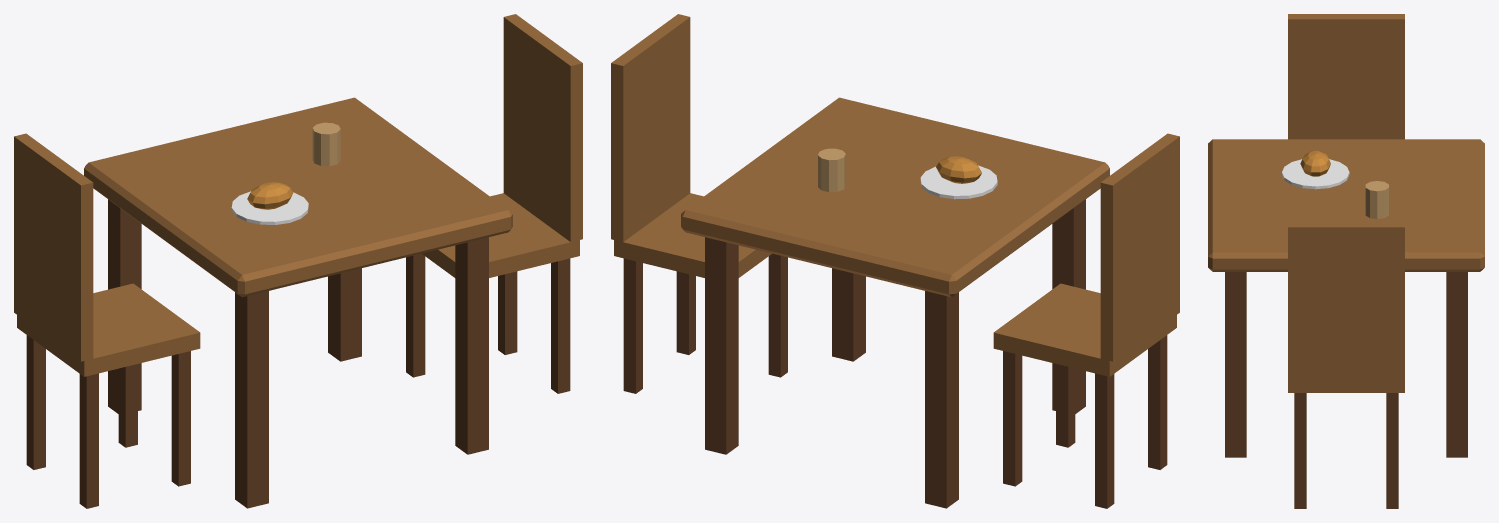
File: furn_table.glb
The picture shows the model from 3 angles, left to right: view 1: azimuth 30°, elevation 25°; view 2: azimuth 150°, elevation 25°; view 3: azimuth 270°, elevation 25°; orthographic projection. The views are drawn at different scales.
Visible parts, largest first — view 1: top, back, back.001, seat.001, leg.003, leg.001, seat, leg.002, leg, cleg.007, cleg.002, cleg.006 (+7 smaller); view 2: top, back, back.001, seat.001, leg.002, leg, seat, leg.003, leg.001, cleg.005, cleg, cleg.004 (+7 smaller); view 3: top, back, back.001, leg, leg.001, seat, cleg, cleg.002, plate, mug, bread.
Part boxes in pixels (bbox=[...]): top: bbox=[84, 97, 512, 297]; back: bbox=[503, 14, 582, 241]; back.001: bbox=[14, 133, 93, 361]; seat.001: bbox=[17, 283, 200, 376]; leg.003: bbox=[235, 291, 268, 508]; leg.001: bbox=[455, 237, 488, 454]; seat: bbox=[422, 193, 579, 277]; leg.002: bbox=[108, 199, 141, 413]; leg: bbox=[328, 268, 361, 361]; cleg.007: bbox=[79, 373, 98, 508]; cleg.002: bbox=[551, 258, 570, 393]; cleg.006: bbox=[171, 351, 190, 486]; top: bbox=[681, 97, 1109, 297]; back: bbox=[611, 14, 690, 241]; back.001: bbox=[1100, 133, 1179, 361]; seat.001: bbox=[993, 283, 1176, 376]; leg.002: bbox=[925, 291, 958, 508]; leg: bbox=[705, 237, 738, 454]; seat: bbox=[614, 193, 771, 277]; leg.003: bbox=[1052, 199, 1085, 413]; leg.001: bbox=[832, 268, 865, 361]; cleg.005: bbox=[1095, 373, 1114, 508]; cleg: bbox=[623, 258, 642, 393]; cleg.004: bbox=[1003, 351, 1022, 486]; top: bbox=[1208, 139, 1484, 271]; back: bbox=[1288, 222, 1404, 380]; back.001: bbox=[1288, 14, 1404, 139]; leg: bbox=[1446, 272, 1467, 457]; leg.001: bbox=[1225, 272, 1246, 457]; seat: bbox=[1288, 380, 1404, 392]; cleg: bbox=[1386, 393, 1398, 508]; cleg.002: bbox=[1294, 393, 1306, 508]; plate: bbox=[1282, 159, 1349, 189]; mug: bbox=[1365, 181, 1388, 218]; bread: bbox=[1300, 151, 1330, 176].
Bounding box in the file's own units: 1.64 × 1.02 × 0.9.
